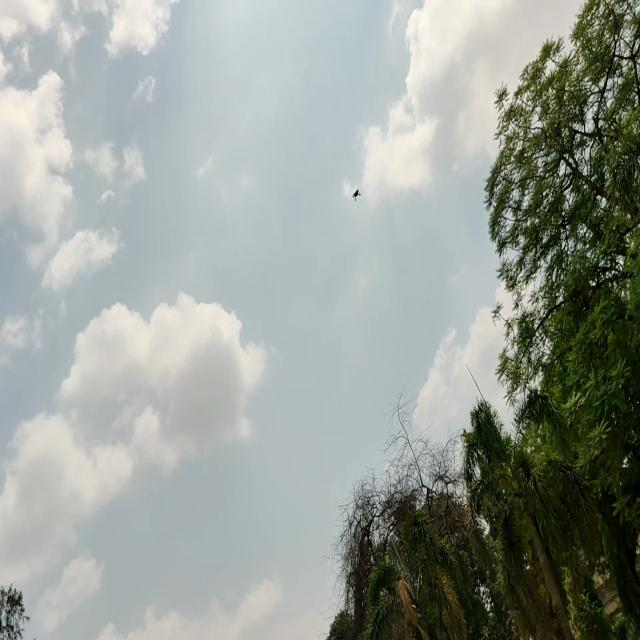drone: (349, 181, 365, 201)
